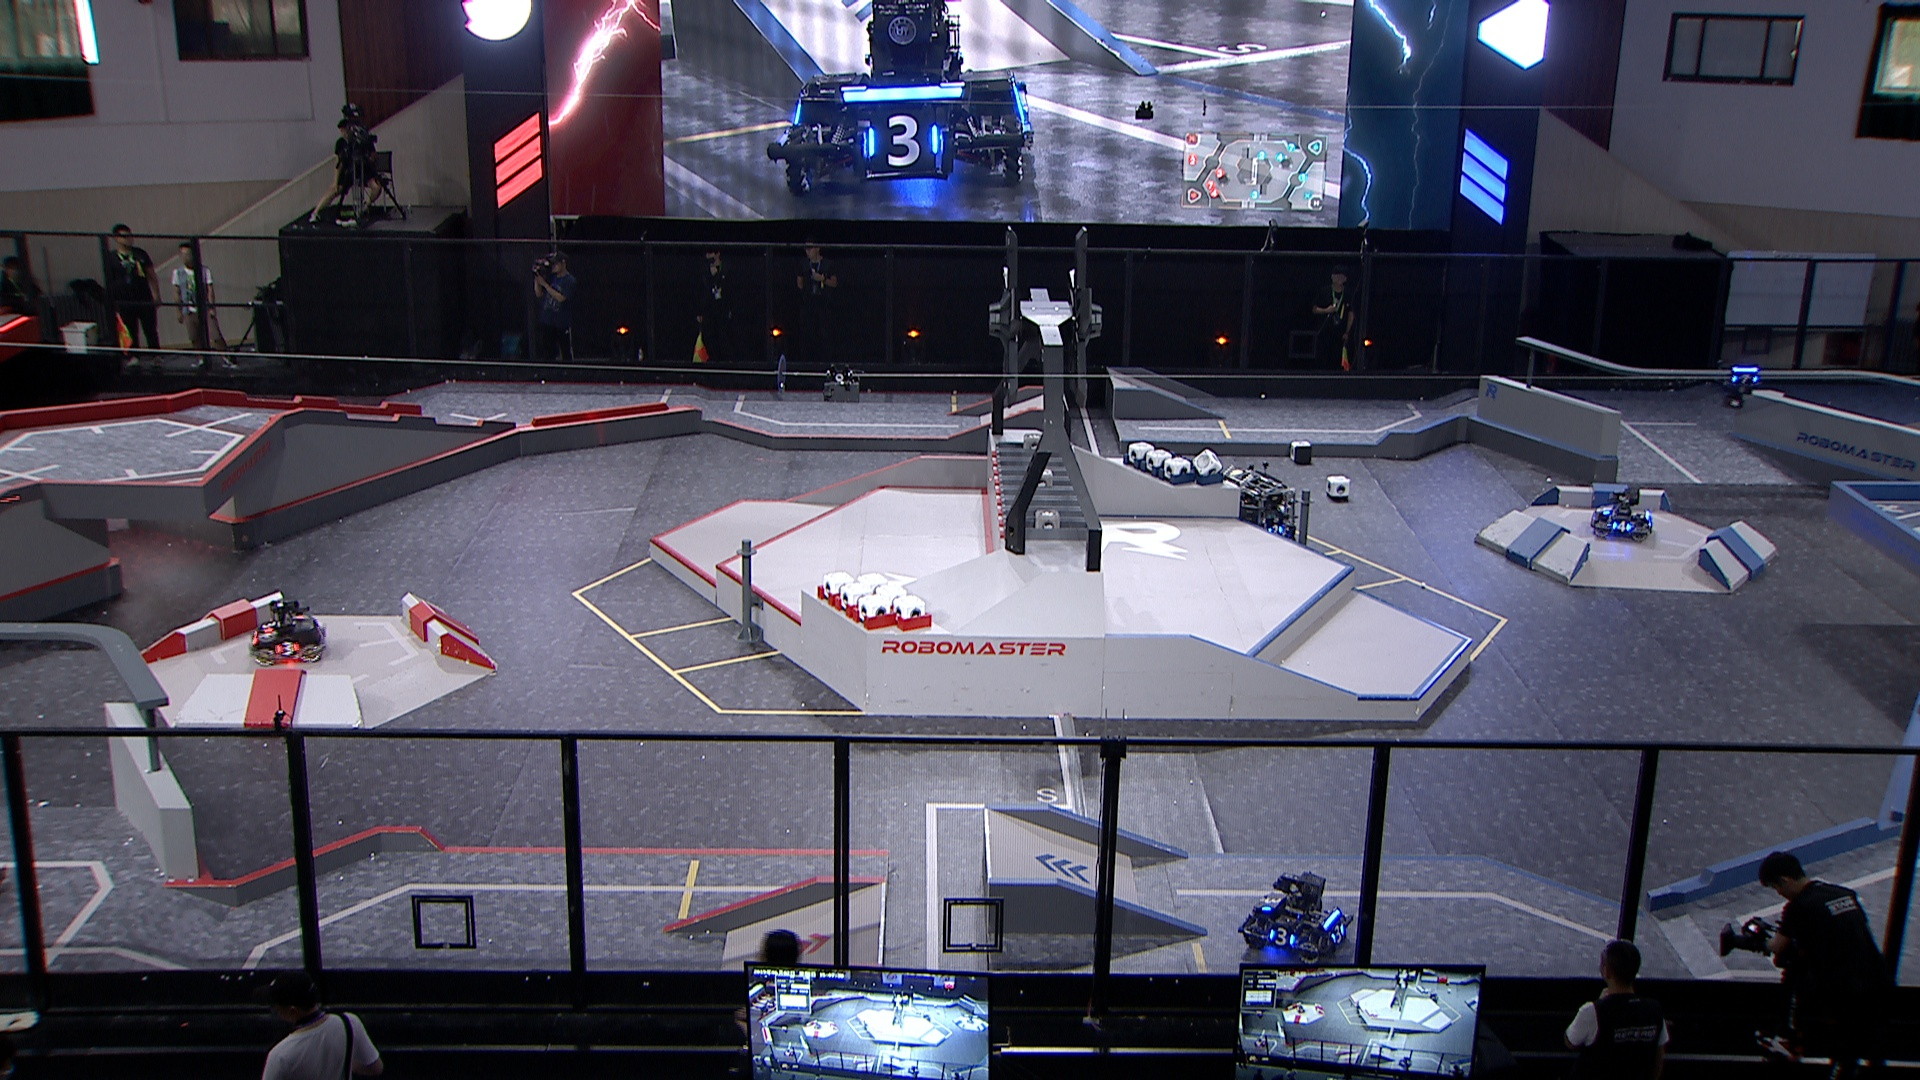armor: (1267, 924, 1296, 949), (1259, 891, 1282, 913), (272, 642, 302, 657), (1329, 920, 1346, 945), (1731, 373, 1759, 386), (258, 617, 277, 636), (1609, 520, 1633, 533), (1266, 524, 1284, 535)
car: (1237, 872, 1353, 965), (1218, 465, 1296, 551), (249, 600, 324, 666), (1588, 487, 1655, 546)
ignore: (764, 0, 1035, 199)
watcher: (1717, 357, 1762, 409)
